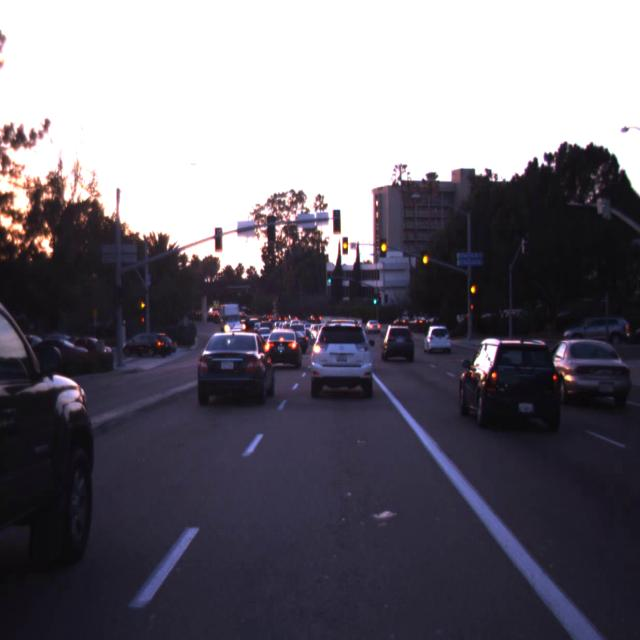arka_lamba: (268, 217, 276, 242), (215, 228, 222, 251), (334, 210, 341, 233)
sari: (342, 237, 348, 254), (381, 238, 386, 258)
